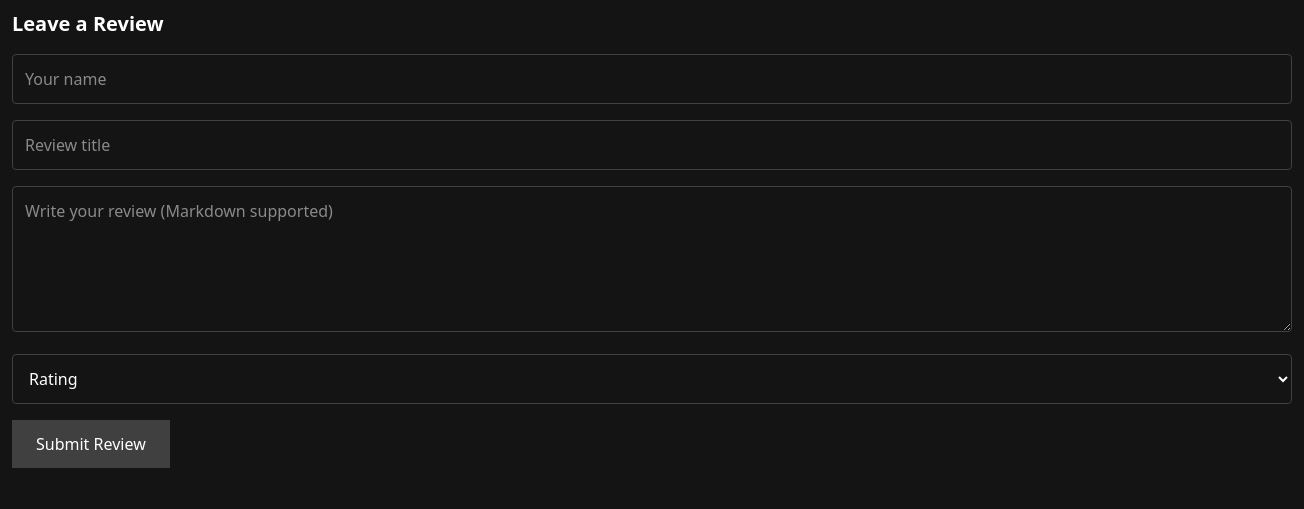
it: ReviewForm › shows validation errors when fields are touched and invalid
This screenshot has width=1304, height=509.
Type "a" into the field with placeholder "Your name".
click(652, 79); type("a")  # box [12, 54, 1292, 104]
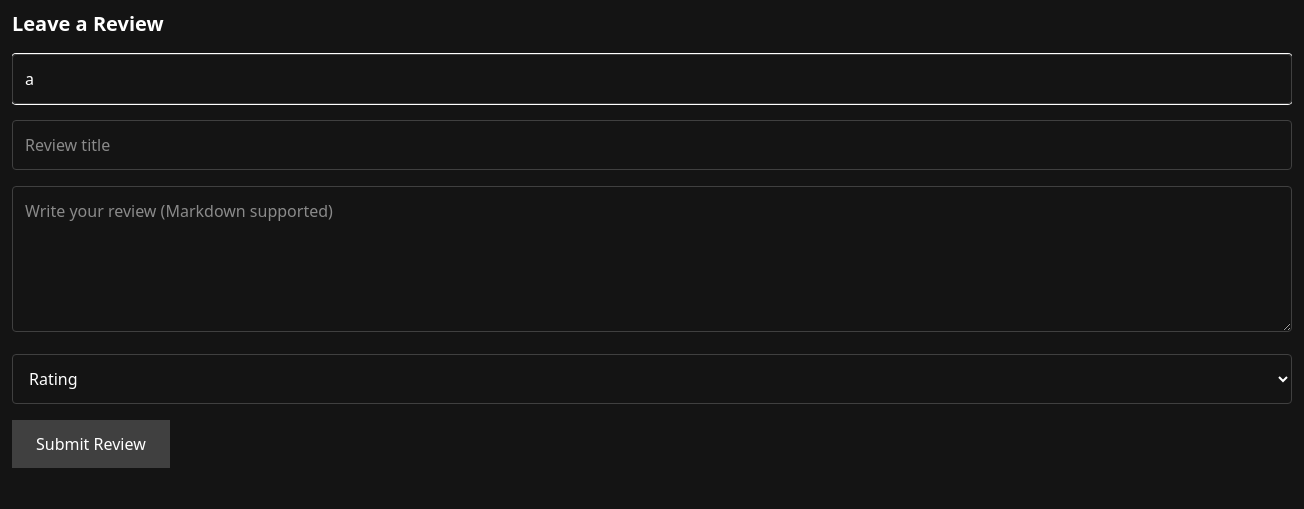
Press Tab
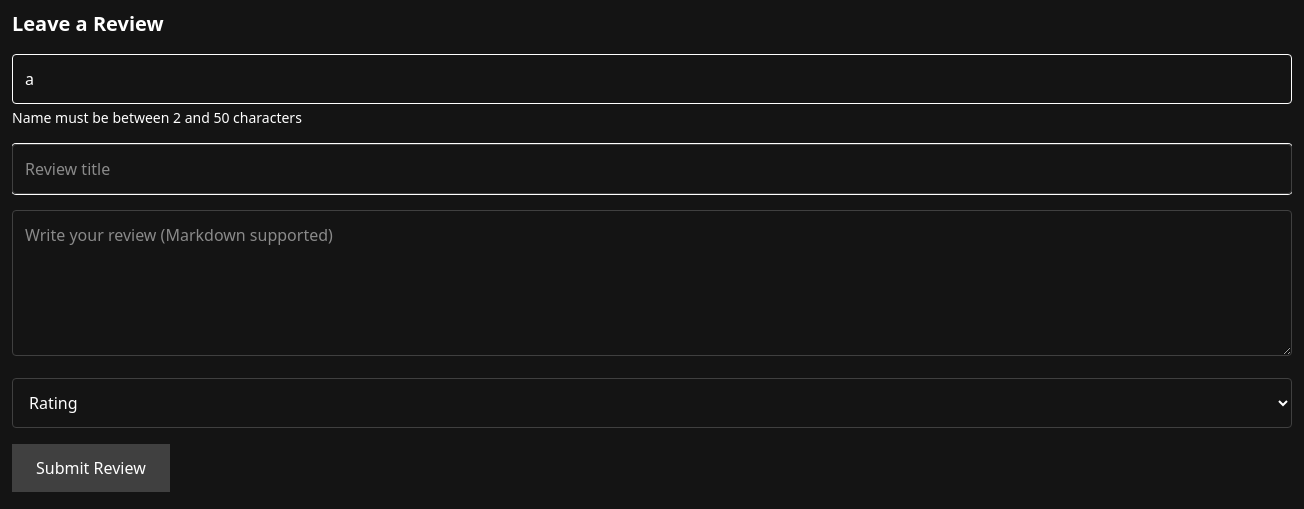
Expected: the text "Name must be between 2 and 50 characters" is shown, [12, 108, 302, 127]
